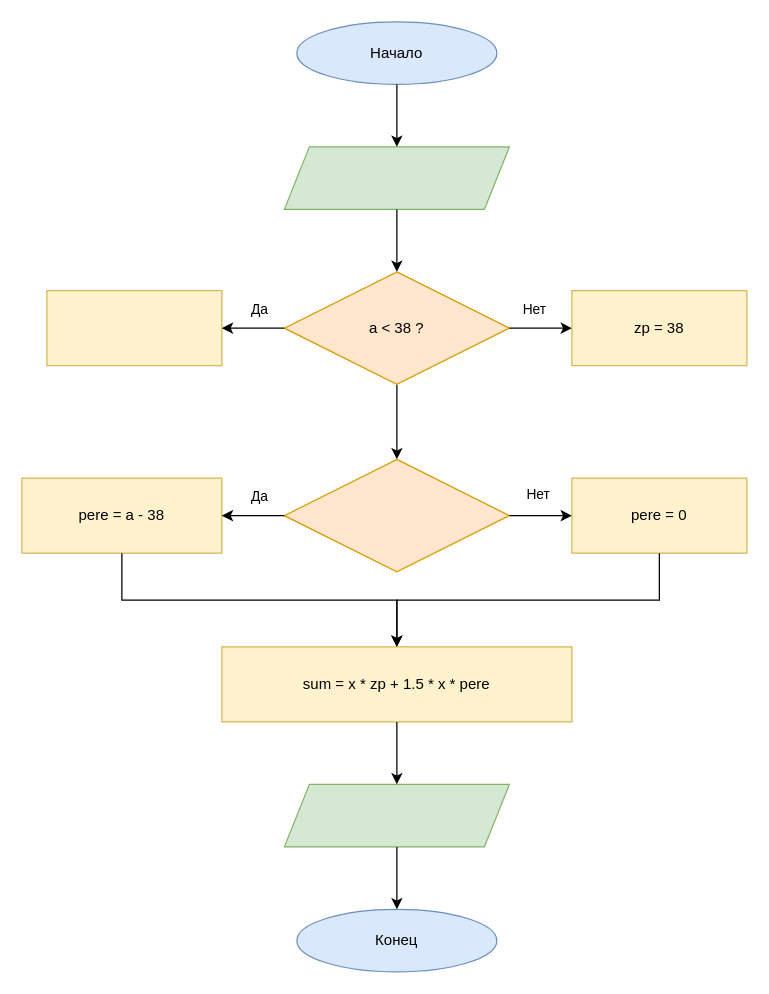
Image size: 769x994. Some labels were removed from this diagram. The shapes that lost their labels are listed below. From the top down, each one's box as (x1, y1, x2, y2) in pixels, then its label:
(283, 146, 509, 209): Ввод x, a
(46, 289, 222, 366): zp = a
(283, 458, 509, 572): a > 38 ?
(283, 783, 509, 847): Вывод sum
